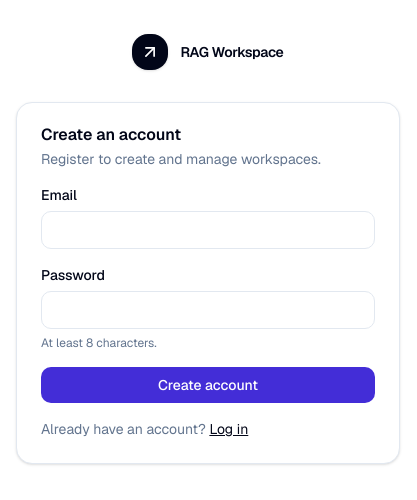
Scenario: RegisterPage › shows a validation error for an invalid email
The image size is (417, 500).
In the field labelled "Email": (208, 230) [41,211,375,249], type "not-an-email"
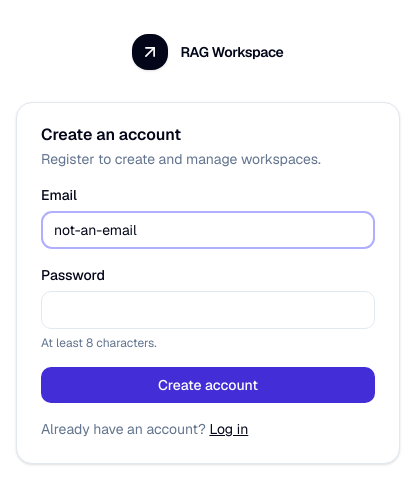
In the password field labelled "Password": (208, 310) [41,291,375,329], type "a-fine-password"
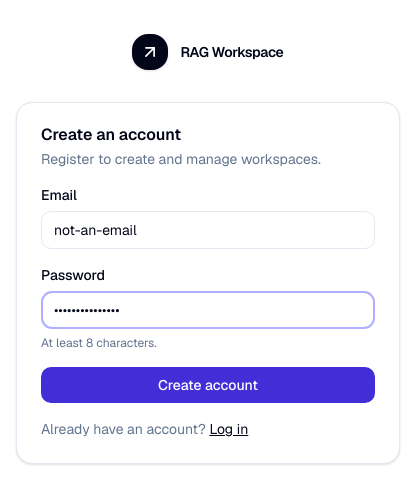
Click the button "Create account": click(208, 385) [41,367,375,403]
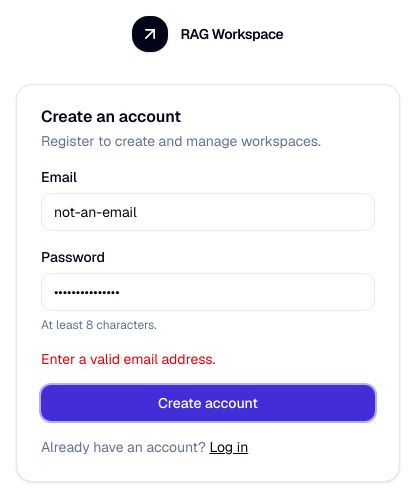
Result: the text "Enter a valid email address." is shown at [41,350,215,368]
